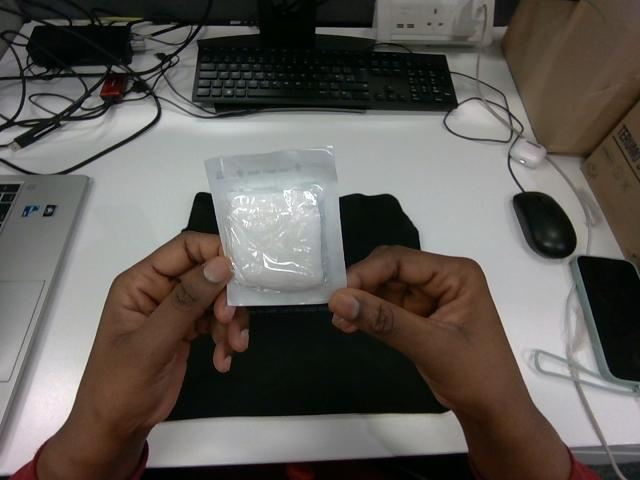gauze: (205, 147, 345, 305)
